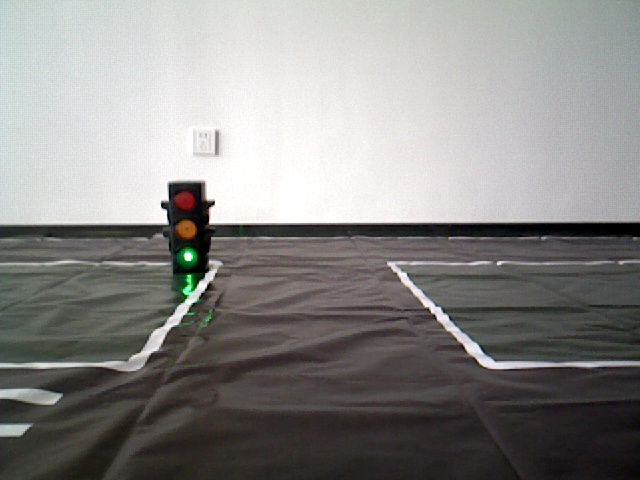green: (171, 183, 201, 264)
